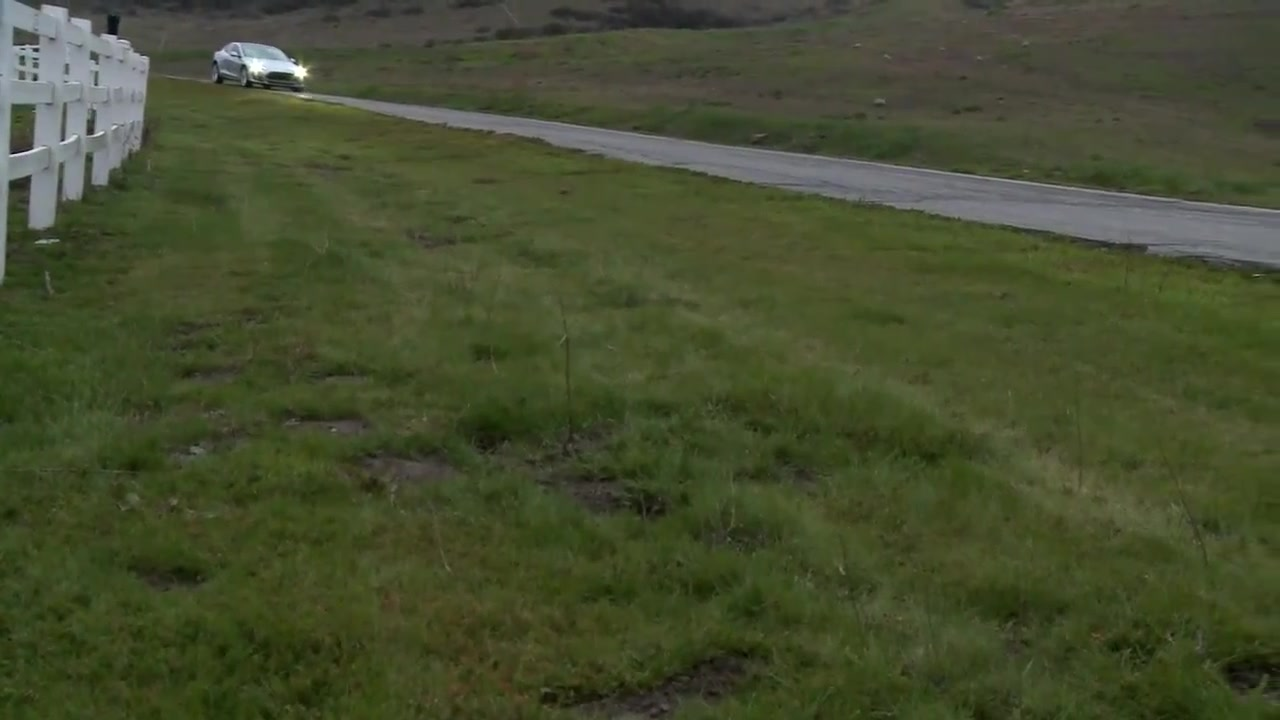car: (210, 41, 310, 91)
